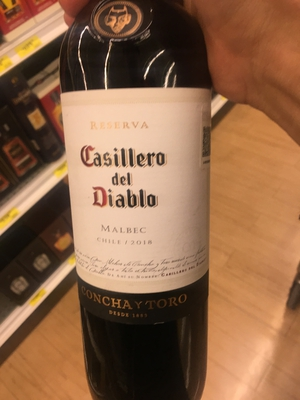casillero del diablo malbec: (53, 22, 230, 378)
